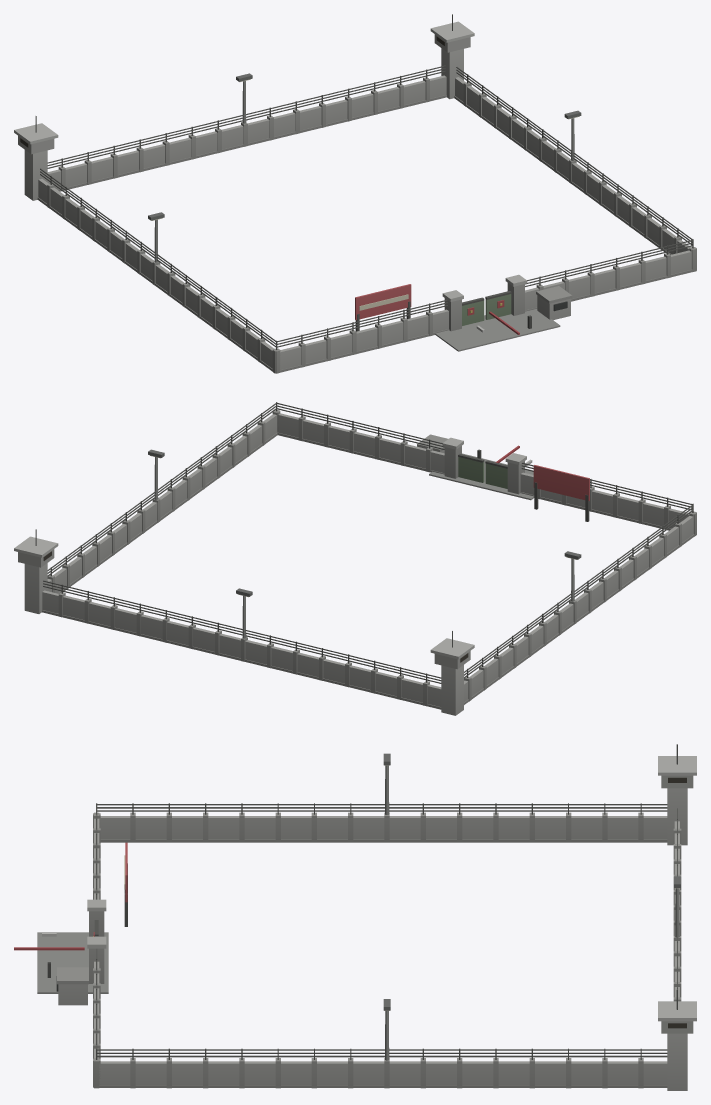
File: m_depot_d9f930f4.glb
3 renders of one model, top to bottom at view 1: azimuth 30°, elevation 25°; view 2: azimuth 150°, elevation 25°; view 3: azimuth 270°, elevation 25°, orthographic. The views are drawn at different scales.
Parts seen in each view (by area): view 1: mesh; view 2: mesh; view 3: mesh.
Part boxes in pixels (bbox=[...]): mesh: bbox=[14, 14, 696, 373]; mesh: bbox=[14, 402, 696, 715]; mesh: bbox=[14, 744, 696, 1090].
Size of the model in its own units: 105 by 18 by 115.
